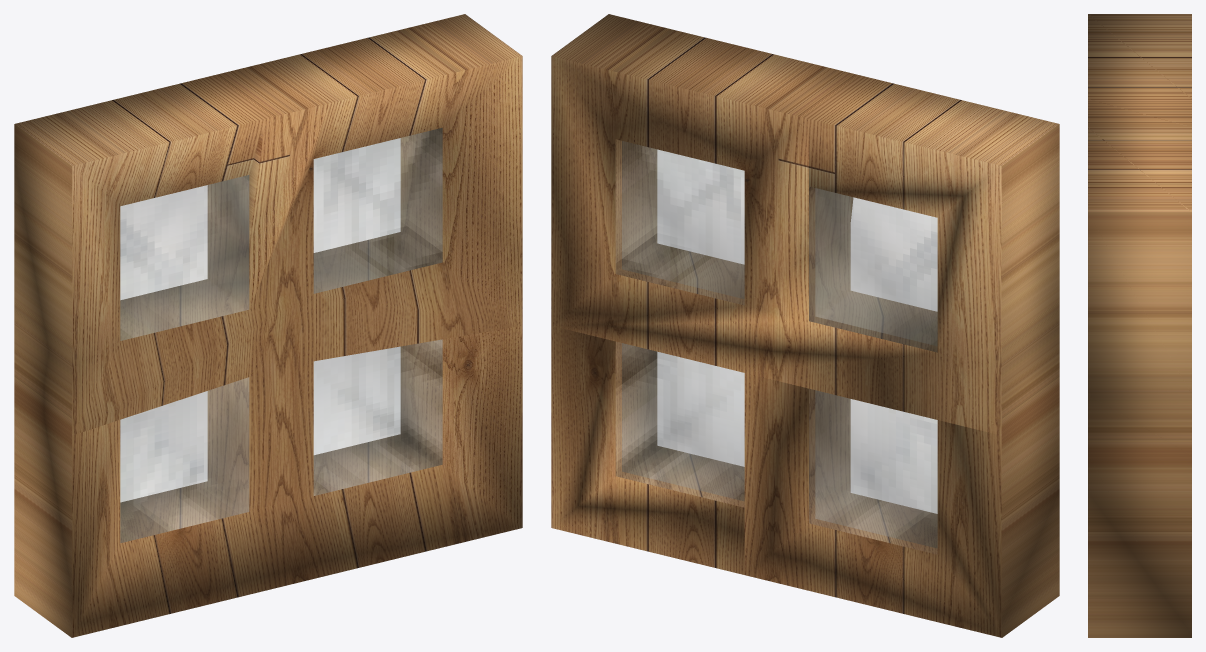
File: window1.glb
3 views of the same model, side by side, from view 1: azimuth 30°, elevation 25°; view 2: azimuth 150°, elevation 25°; view 3: azimuth 270°, elevation 25° (orthographic). The views are drawn at different scales.
Parts seen in each view (by area): view 1: Window_Natural; view 2: Window_Natural; view 3: Window_Natural.
Part boxes in pixels (box(x1,y1,x2,y2)): Window_Natural: box(14, 14, 522, 637); Window_Natural: box(551, 14, 1059, 637); Window_Natural: box(1088, 14, 1191, 637).
Bounding box in the file's own units: 0.9 × 0.9 × 0.199.
Materials: 2 (2 with a texture image).
